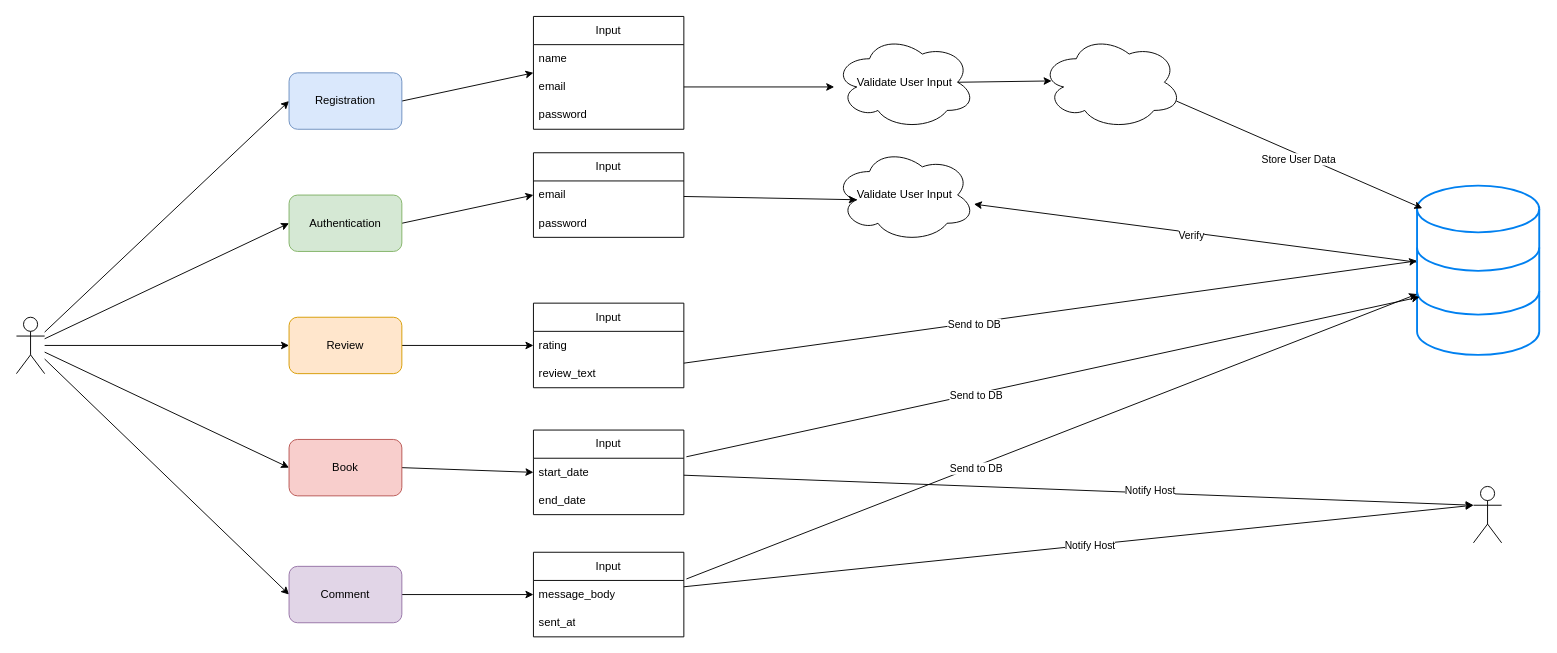
This 1557x653 diagram has some shape labels left out. The centre of each missing label's shape, as x and y in pixels:
Create User Account: pixel 1111 81
Host: pixel 1487 514
User: pixel 30 345
